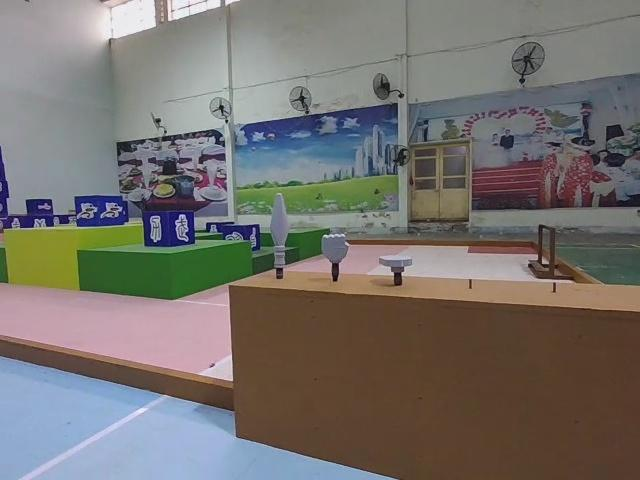Fist: (322, 235, 352, 281)
Hand: (379, 254, 415, 284)
Sph: (270, 190, 292, 278)
